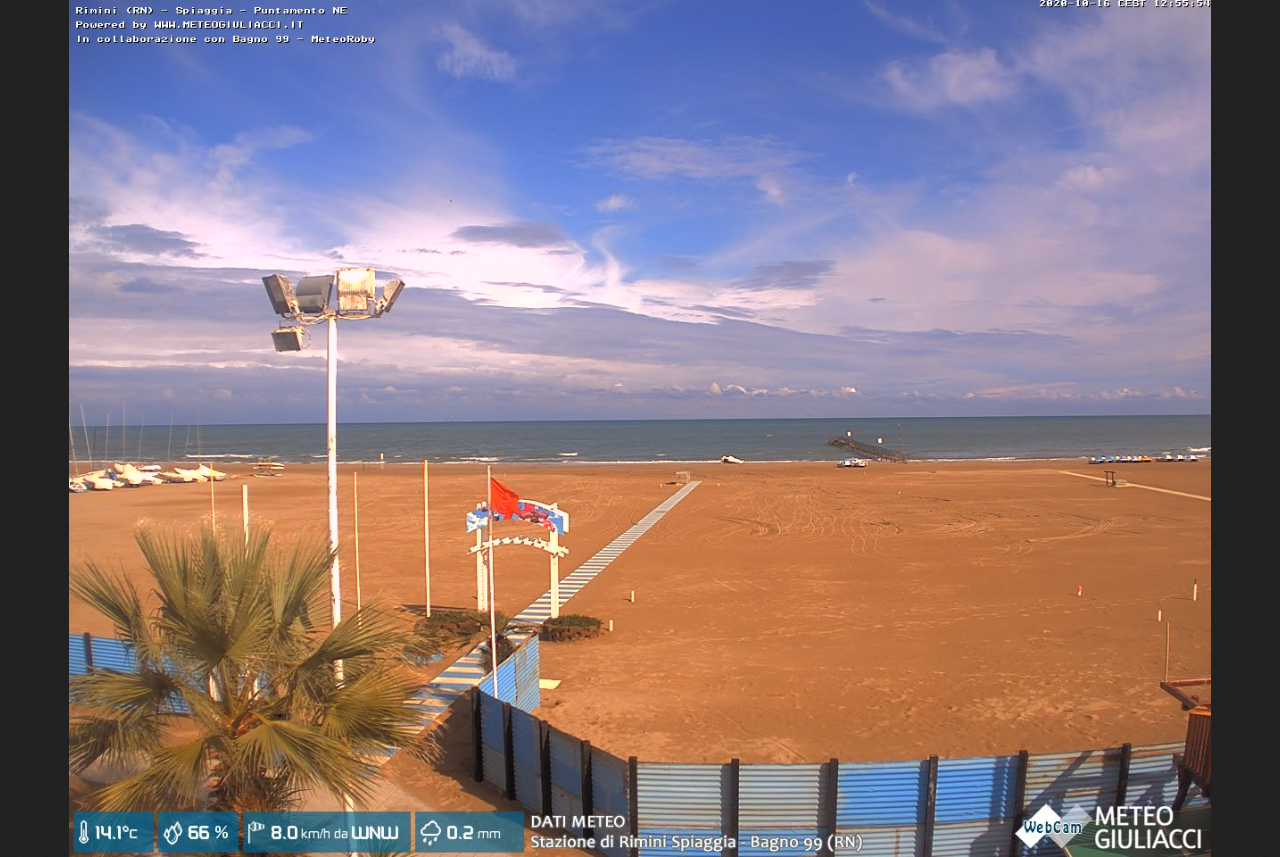yes: (483, 475, 524, 522)
